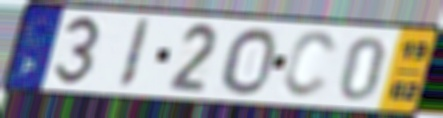0: (337, 34, 391, 103)
2: (167, 22, 220, 95)
3: (48, 13, 104, 89)
C: (279, 29, 340, 101)
I: (114, 17, 154, 92)
O: (218, 25, 279, 97)
